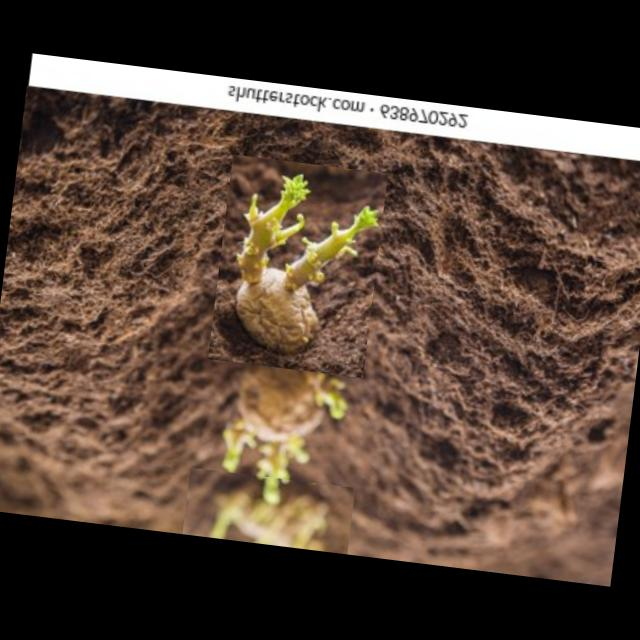Sprouted potato: (111, 148, 640, 585), (208, 154, 388, 378), (205, 350, 354, 504), (182, 467, 355, 555)
